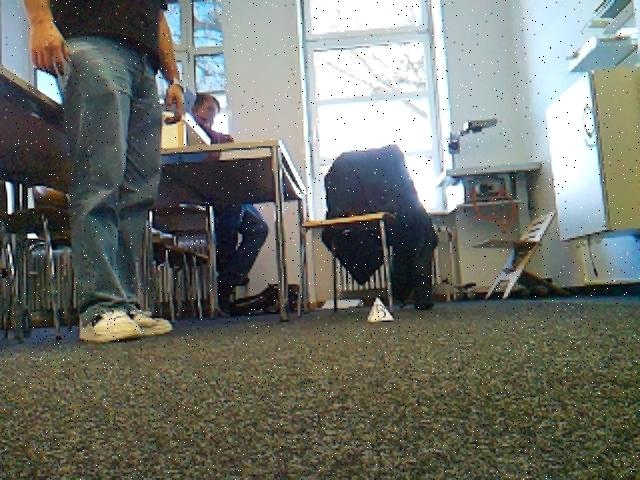B: (369, 299, 393, 322)
